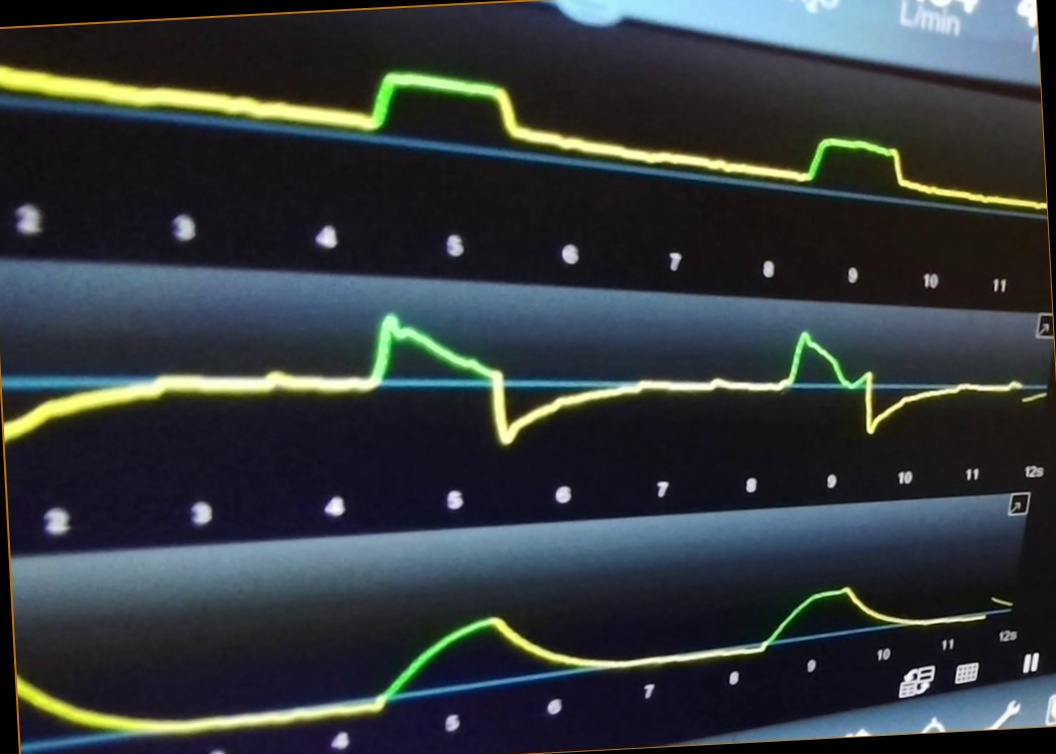Double_Triggering Flow: (35, 310, 1019, 460)
Double_Triggering Volume: (39, 584, 986, 730)
